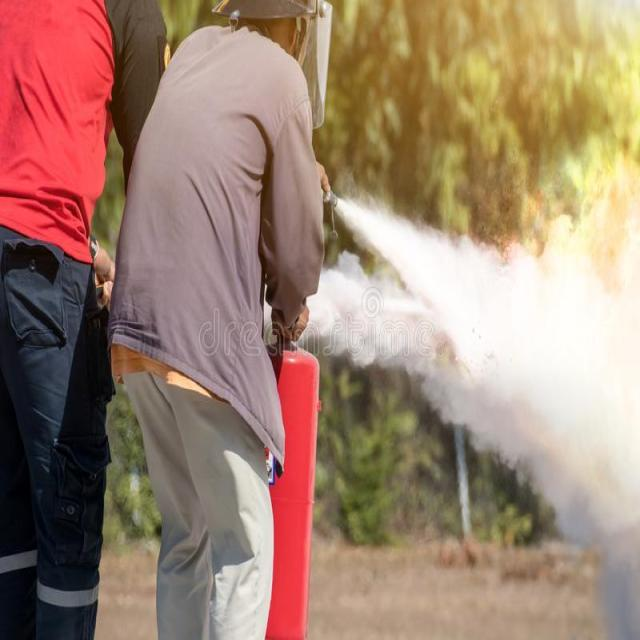fire_extinguisher: (228, 178, 364, 639)
